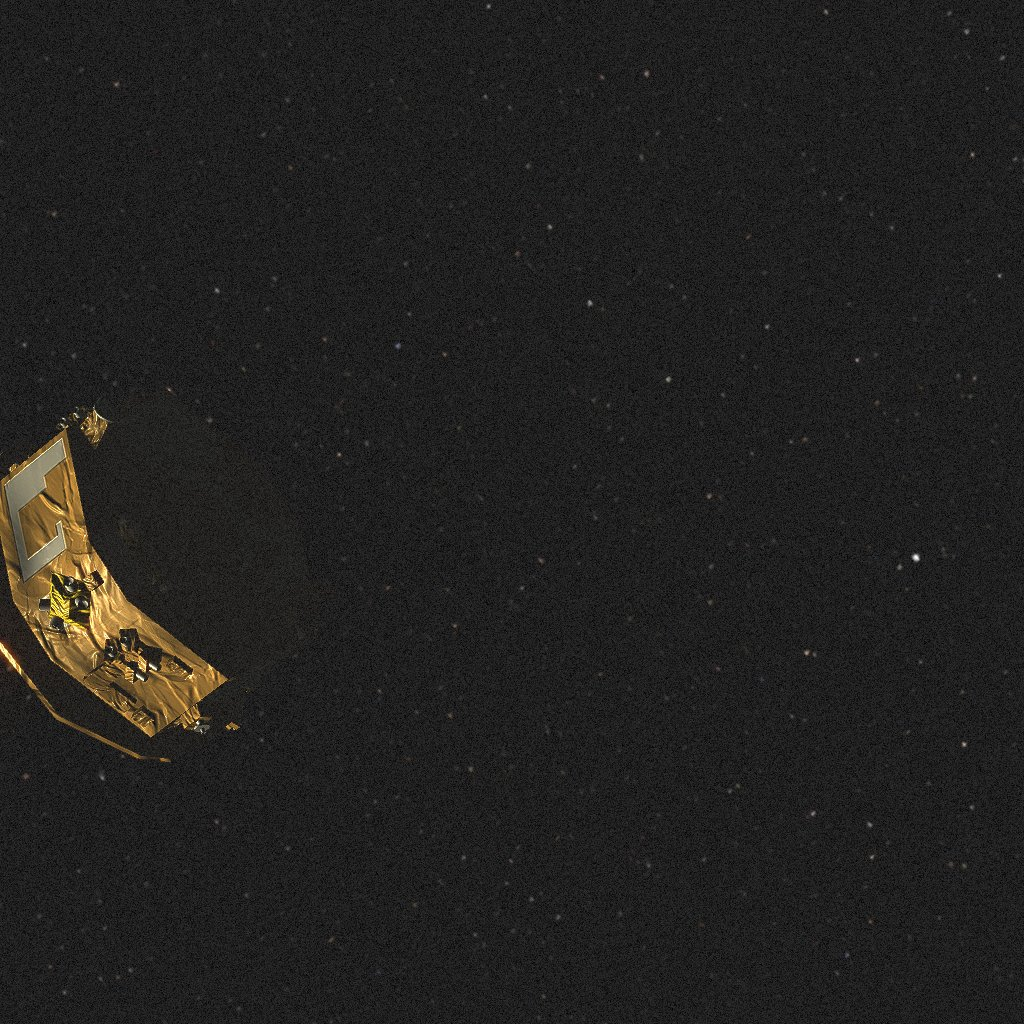lisa_pathfinder: (18, 401, 335, 745)
